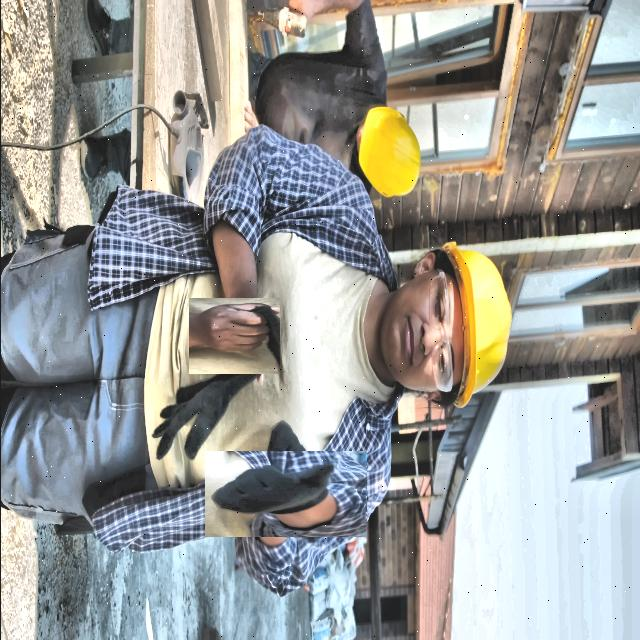gloved: (222, 432, 348, 556)
not-gloved: (192, 294, 276, 378)
